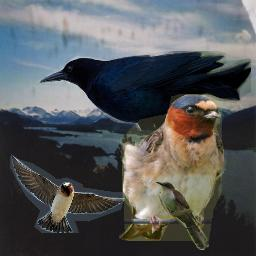Crow: (38, 51, 251, 131)
Cuckoo: (155, 180, 209, 250)
Swallow: (119, 94, 227, 241), (10, 154, 125, 233)
